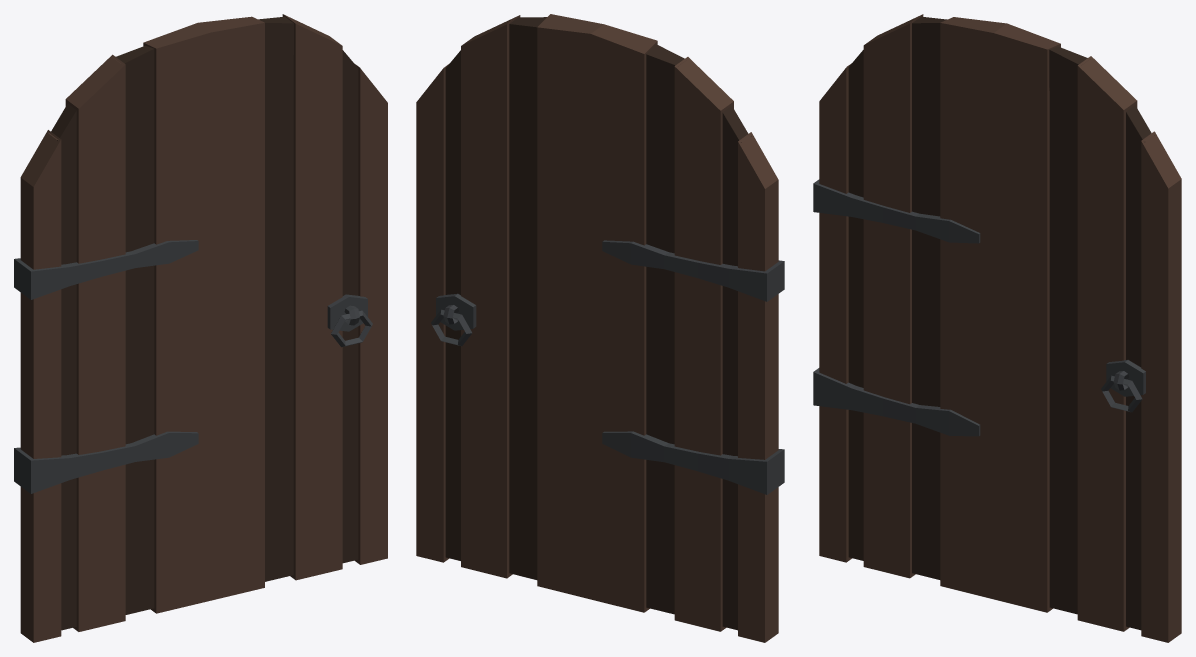
File: Door.fbx
The picture shows the model from 3 angles, left to right: view 1: azimuth 30°, elevation 25°; view 2: azimuth 150°, elevation 25°; view 3: azimuth 330°, elevation 25°; orthographic projection.
Visible parts, largest first — view 1: Door1; view 2: Door1; view 3: Door1.
Boxes of the visible parts, x1=… form: Door1: x1=14, y1=14, x2=387, y2=642; Door1: x1=416, y1=14, x2=784, y2=642; Door1: x1=813, y1=14, x2=1181, y2=642.
Bounding box in the file's own units: 388 × 590 × 63.01.
